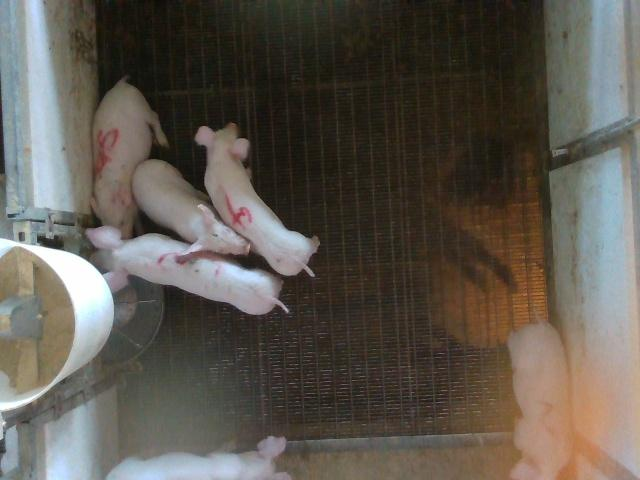pig-1: (106, 436, 291, 480)
pig-2: (508, 321, 574, 478)
pig-3: (86, 226, 288, 314)
pig-4: (195, 122, 320, 276)
pig-5: (91, 78, 168, 239)
